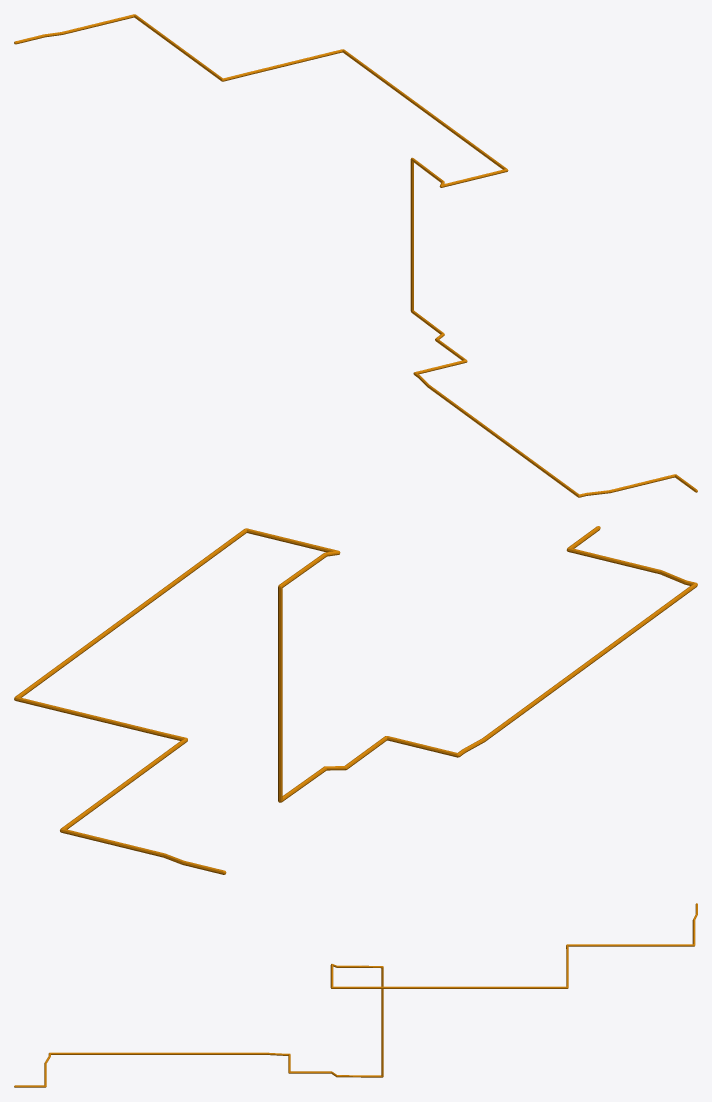
The picture shows the model from 3 angles, top to bottom: view 1: azimuth 30°, elevation 25°; view 2: azimuth 150°, elevation 25°; view 3: azimuth 270°, elevation 25°; orthographic projection. The views are drawn at different scales.
Bounding box in the file's own units: 1656 × 1020 × 5664.
